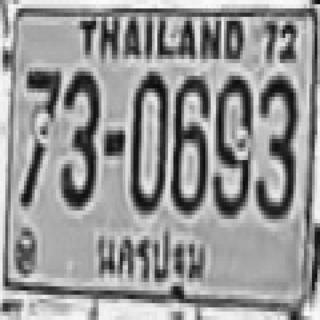N00: (128, 67, 165, 211)
N03: (253, 72, 296, 215), (59, 67, 99, 206)
N06: (169, 72, 207, 210)
N07: (19, 69, 59, 204)
N09: (211, 72, 251, 215)
P28: (89, 224, 208, 303)
